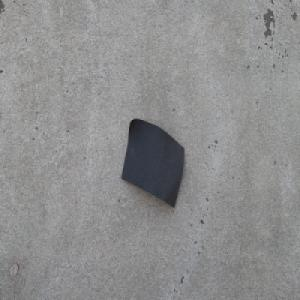PaintChip: (120, 116, 185, 209)
